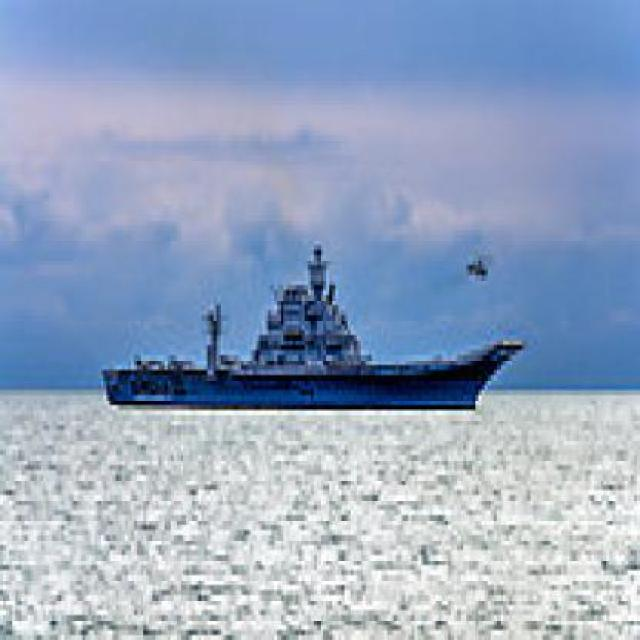warship2: (102, 231, 549, 436)
